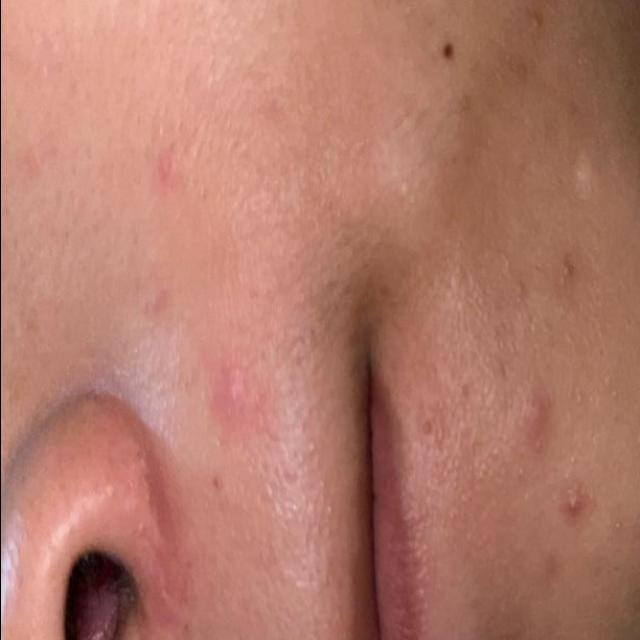papule: (498, 362, 599, 571), (207, 352, 271, 431)
